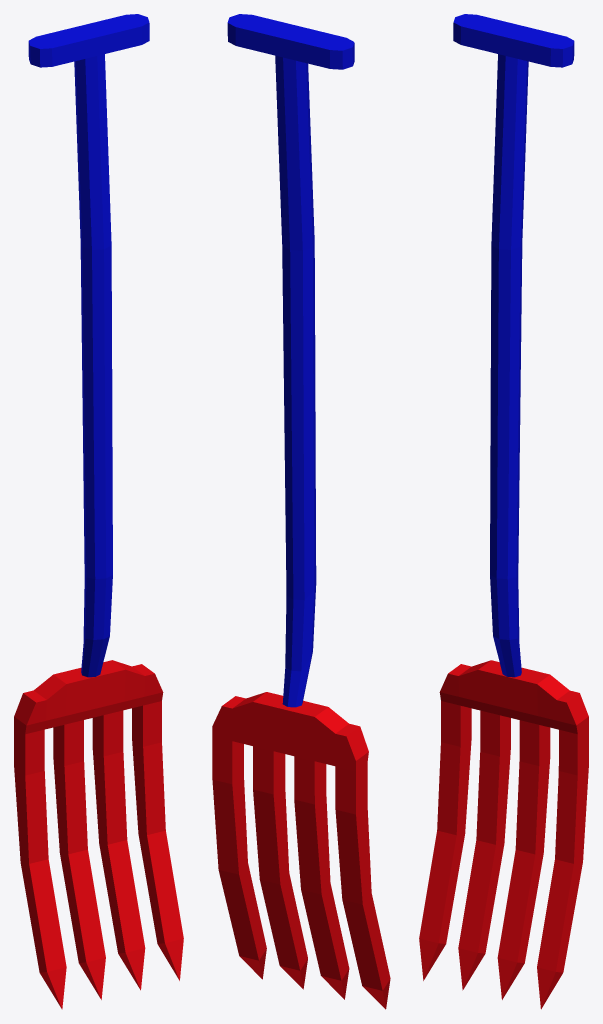
The model's file is SM_Pitchfork.fbx.
3 renders of one model, left to right at view 1: azimuth 30°, elevation 25°; view 2: azimuth 150°, elevation 25°; view 3: azimuth 330°, elevation 25°, orthographic. The views are drawn at different scales.
Visible parts, largest first — view 1: SM_Pitchfork; view 2: SM_Pitchfork; view 3: SM_Pitchfork.
Boxes of the visible parts, x1=… form: SM_Pitchfork: x1=14, y1=14, x2=183, y2=1009; SM_Pitchfork: x1=212, y1=14, x2=390, y2=1009; SM_Pitchfork: x1=419, y1=14, x2=588, y2=1009.
Bounding box in the file's own units: 12.17 × 79.99 × 6.15.
